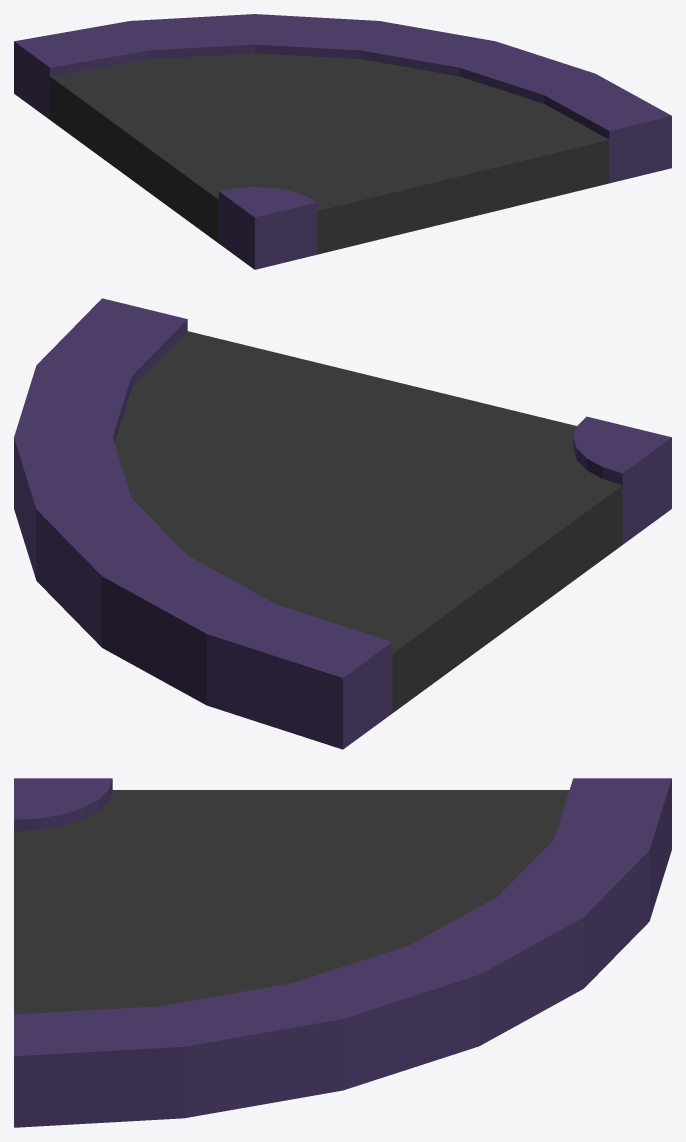
File: Road_corner_curve.fbx
3 views of the same model, one above another, from view 1: azimuth 30°, elevation 25°; view 2: azimuth 150°, elevation 25°; view 3: azimuth 270°, elevation 25° (orthographic). The views are drawn at different scales.
Parts seen in each view (by area): view 1: Cube; view 2: Cube; view 3: Cube.
Boxes of the visible parts, x1,y1,x2,y2 form: Cube: [14, 14, 671, 269]; Cube: [14, 298, 671, 749]; Cube: [14, 778, 671, 1127].
Size of the model in its own units: 1000 by 120 by 1000.
